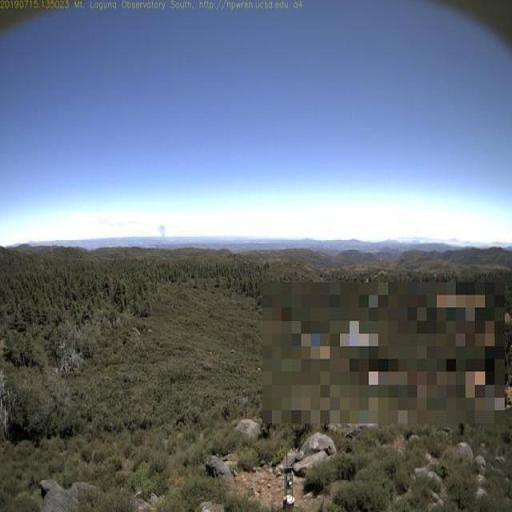smoke: (156, 222, 170, 246)
